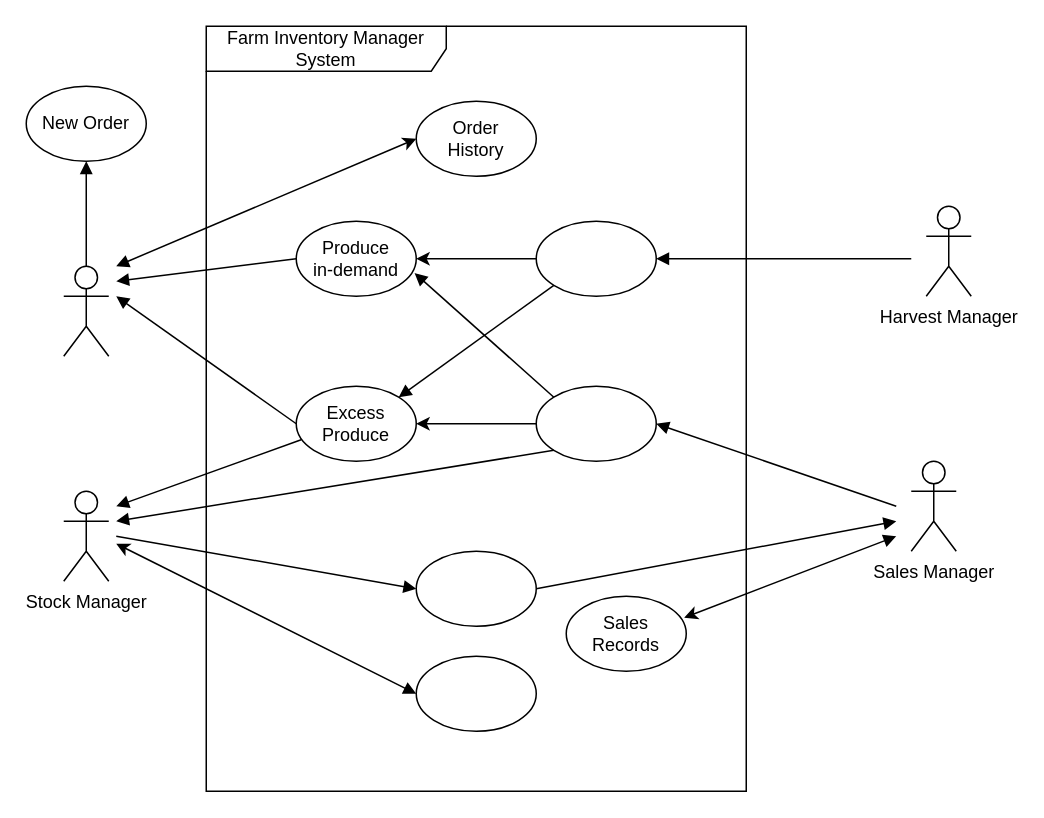
This 1044x818 diagram has some shape labels left out. Here are the shapes that lost their labels. From the top down, the centre of each, then its label:
the point at 595,258: Produce Harvested
the point at 85,310: Farm Manager
the point at 595,423: Produce Sold
the point at 475,588: Allocated Produce to Market
the point at 475,693: Storage Available
